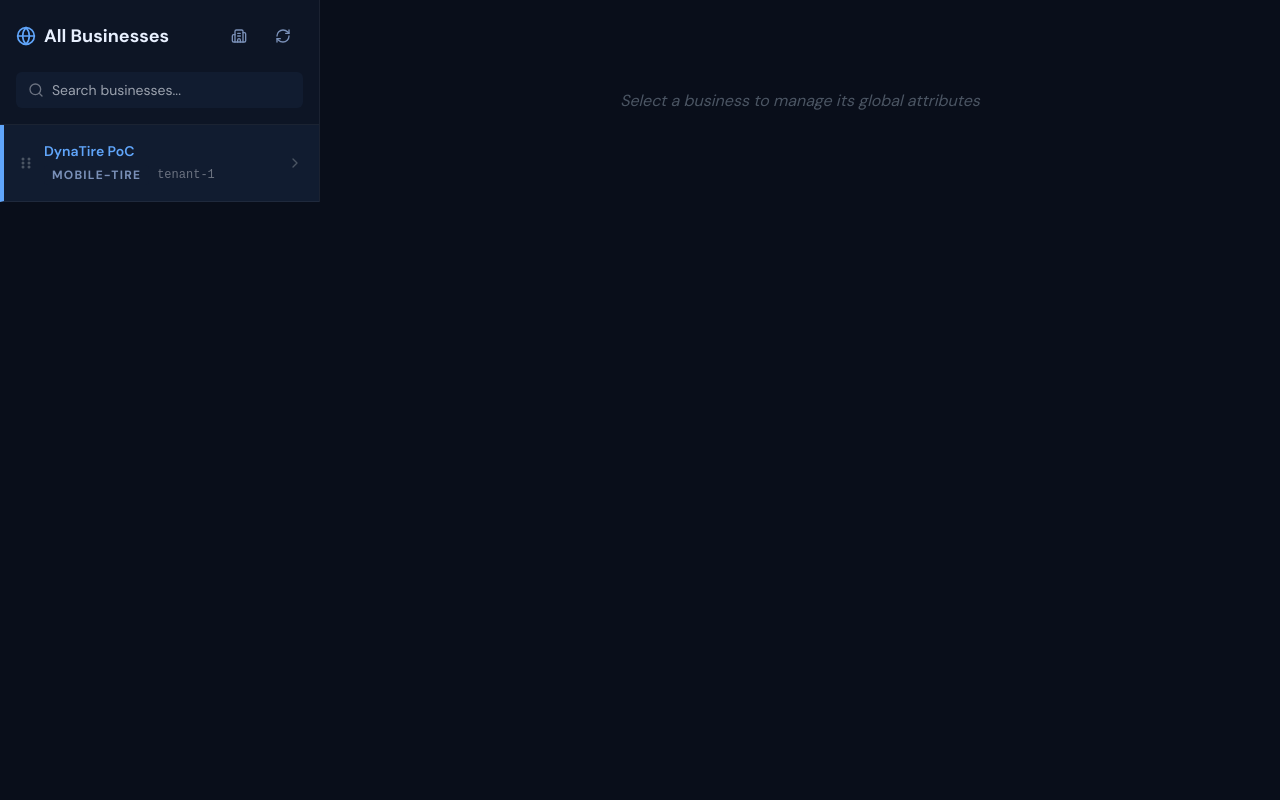
Scenario: SuperAdminDashboard: lists tenants and selects one
# Clicking the tenant should show its detail header
Click the text "DynaTire PoC" at (89, 151), box [44,142,134,160]
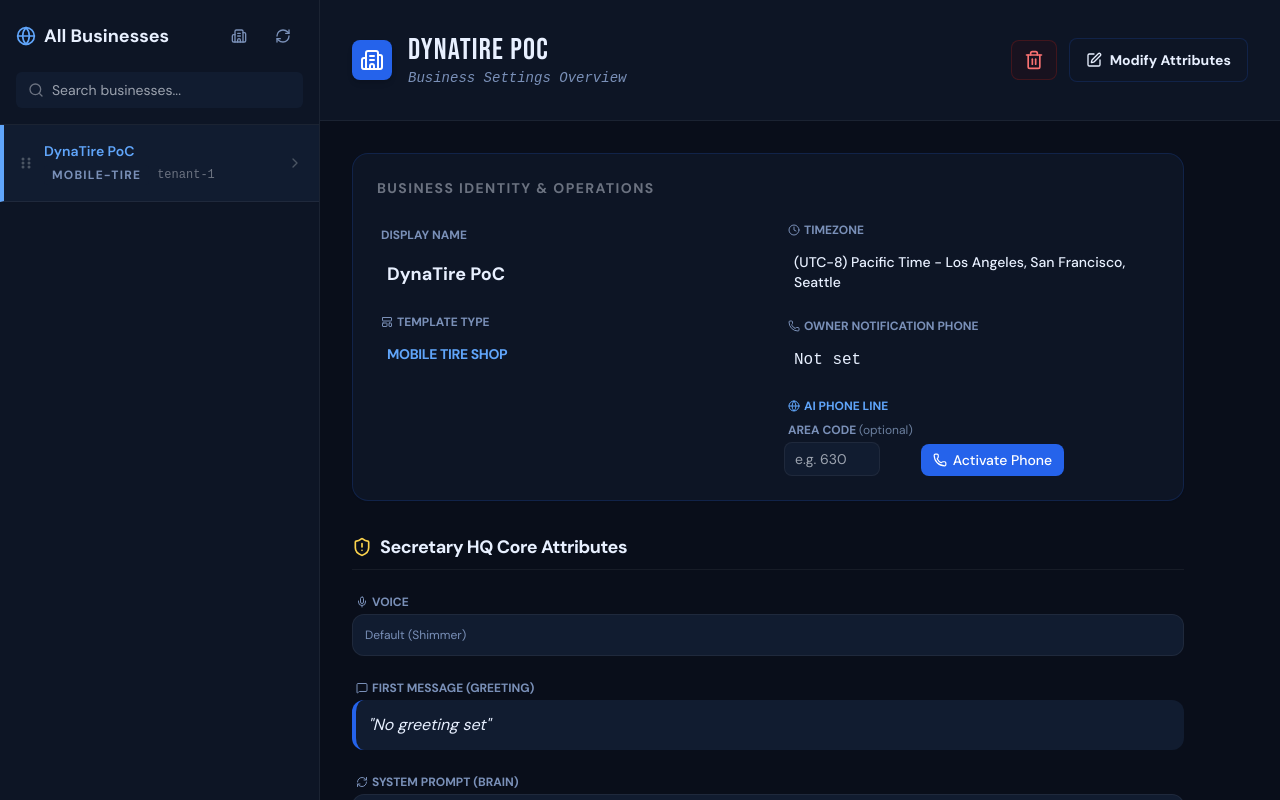
Result: the heading "DynaTire PoC" is shown at [408,32,549,68]
